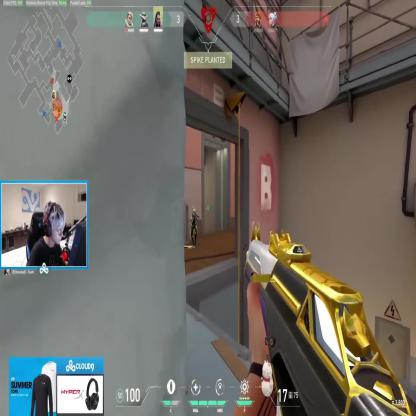enemy: (190, 207, 198, 246)
enemy_head: (192, 207, 196, 214)
